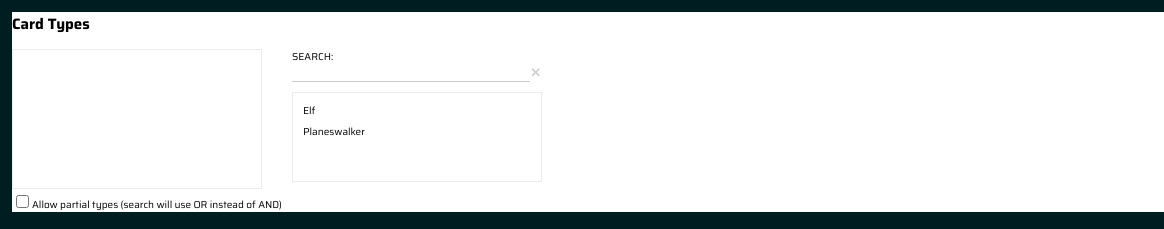
Test: CardTypes › should remove item when remove icon is clicked for selected item
Click the list item "Elf" at (309, 110), box [303,103,315,118]
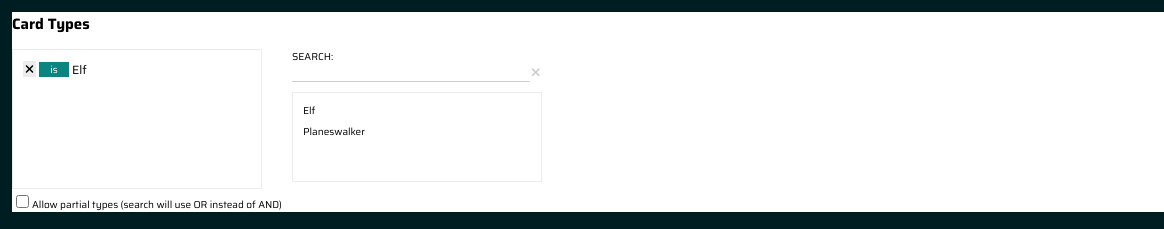
Click the picture with test id "remove-Elf" at (30, 69), box [23,61,36,77]
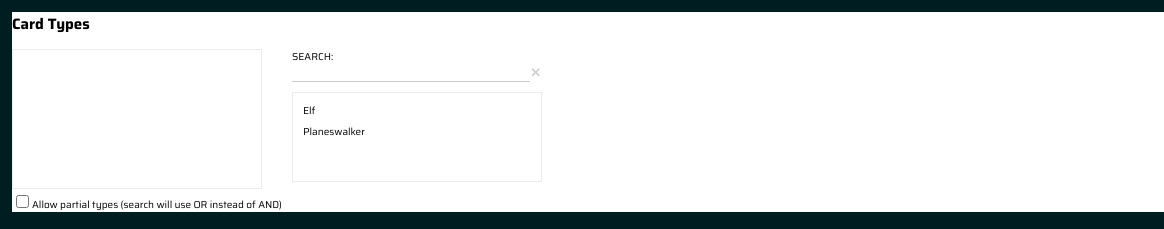
Expected: the list item with test id "Elf-isNotSelector" is gone
